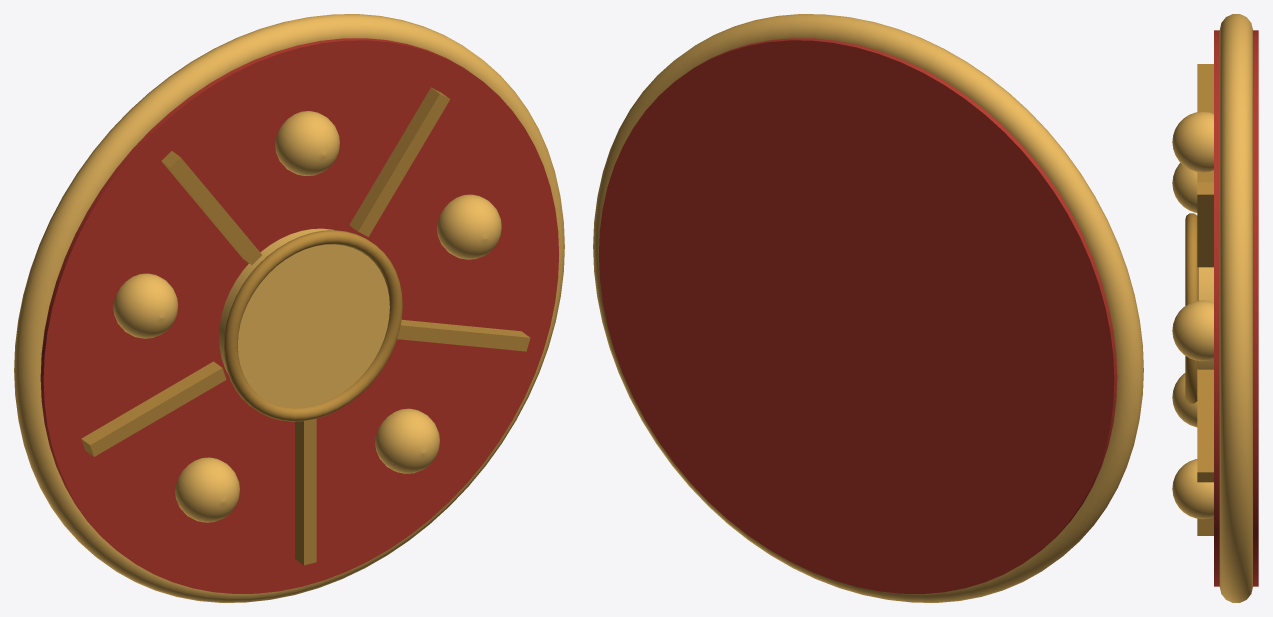
File: jinhwabu.glb
3 renders of one model, left to right at view 1: azimuth 30°, elevation 25°; view 2: azimuth 150°, elevation 25°; view 3: azimuth 270°, elevation 25°, orthographic. The views are drawn at different scales.
Visible parts, largest first — view 1: jinhwabu; view 2: jinhwabu; view 3: jinhwabu.
Boxes of the visible parts, box(x1,y1,x2,y2) form: jinhwabu: box(14, 14, 564, 602); jinhwabu: box(593, 14, 1143, 602); jinhwabu: box(1172, 14, 1258, 602).
Bounding box in the file's own units: 1.06 × 1.06 × 0.155.
